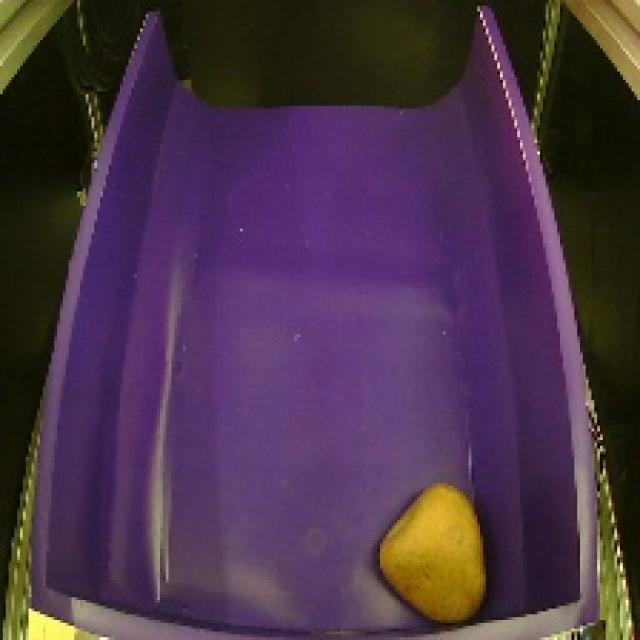cobbles: (369, 479, 502, 635)
